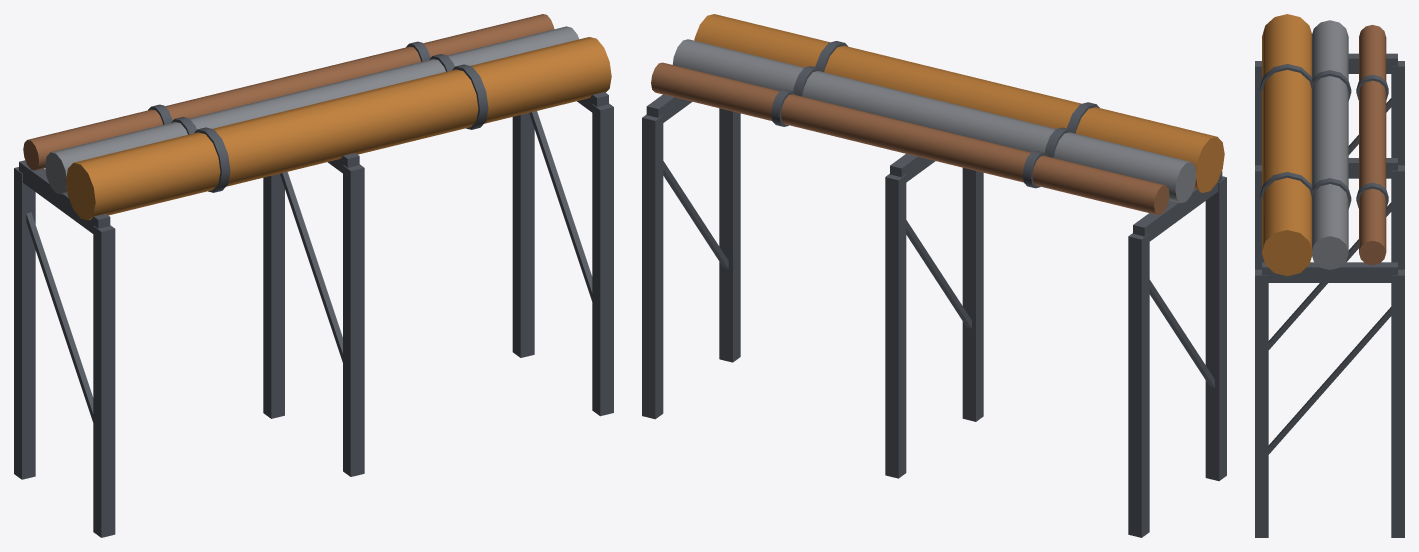
Rendered from pipe_rack_6m.glb.
The picture shows the model from 3 angles, left to right: view 1: azimuth 30°, elevation 25°; view 2: azimuth 150°, elevation 25°; view 3: azimuth 270°, elevation 25°; orthographic projection. The views are drawn at different scales.
Parts seen in each view (by area): view 1: pipe, pipe.002, pipe.001, rack_leg, rack_leg.002, rack_leg.004, rack_leg.001, rack_leg.005, rack_leg.003, rack_brace, rack_brace.002, rack_brace.001 (+3 smaller); view 2: pipe, pipe.002, pipe.001, rack_leg.005, rack_leg.001, rack_leg.003, rack_leg, rack_leg.004, rack_leg.002, rack_beam, rack_brace, rack_brace.002 (+3 smaller); view 3: pipe, pipe.001, pipe.002, rack_leg.004, rack_leg.005, rack_beam.002, rack_leg.003, rack_leg.001, rack_brace.002, rack_brace.001, rack_leg.002, rack_leg (+8 smaller).
Boxes of the visible parts, x1,y1,x2,y2 form: pipe: (66, 37, 611, 220); pipe.002: (23, 14, 554, 170); pipe.001: (45, 26, 578, 194); rack_leg: (93, 225, 115, 537); rack_leg.002: (343, 164, 364, 476); rack_leg.004: (592, 103, 613, 416); rack_leg.001: (14, 167, 35, 479); rack_leg.005: (512, 113, 534, 357); rack_leg.003: (263, 173, 284, 418); rack_brace: (26, 212, 93, 422); rack_brace.002: (529, 111, 592, 301); rack_brace.001: (280, 172, 342, 362); pipe: (694, 14, 1224, 192); pipe.002: (651, 62, 1169, 215); pipe.001: (672, 39, 1195, 202); rack_leg.005: (642, 114, 663, 419); rack_leg.001: (1128, 233, 1149, 537); rack_leg.003: (885, 174, 906, 478); rack_leg: (1205, 176, 1226, 480); rack_leg.004: (719, 108, 740, 362); rack_leg.002: (962, 168, 983, 421); rack_beam: (1133, 171, 1222, 241); rack_brace: (1149, 280, 1214, 387); rack_brace.002: (663, 161, 728, 269); pipe: (1262, 14, 1312, 276); pipe.001: (1311, 20, 1348, 269); pipe.002: (1359, 25, 1386, 265); rack_leg.004: (1255, 269, 1268, 537); rack_leg.005: (1391, 269, 1404, 537); rack_beam.002: (1262, 262, 1397, 282); rack_leg.003: (1391, 165, 1404, 269); rack_leg.001: (1391, 61, 1404, 165); rack_brace.002: (1268, 307, 1391, 454); rack_brace.001: (1268, 202, 1391, 349); rack_leg.002: (1255, 165, 1264, 269); rack_leg: (1255, 61, 1261, 165).
Size of what is drawn, in the model's own units: 6 by 4.03 by 1.76.
